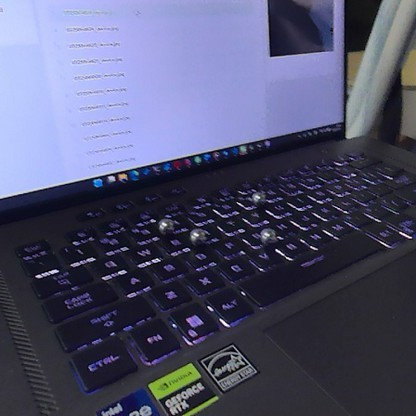ironball: (258, 224, 278, 249), (187, 226, 208, 249), (156, 214, 175, 237), (249, 187, 266, 208)
